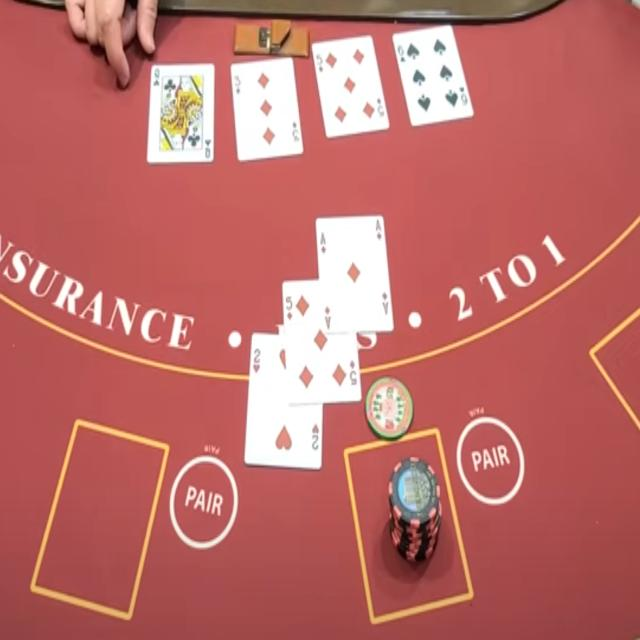2: (252, 346, 261, 364)
3: (232, 73, 243, 87)
5: (284, 294, 293, 311), (316, 50, 323, 65)
6: (395, 43, 405, 57)
A: (318, 227, 328, 246)
Q: (152, 66, 162, 80)
